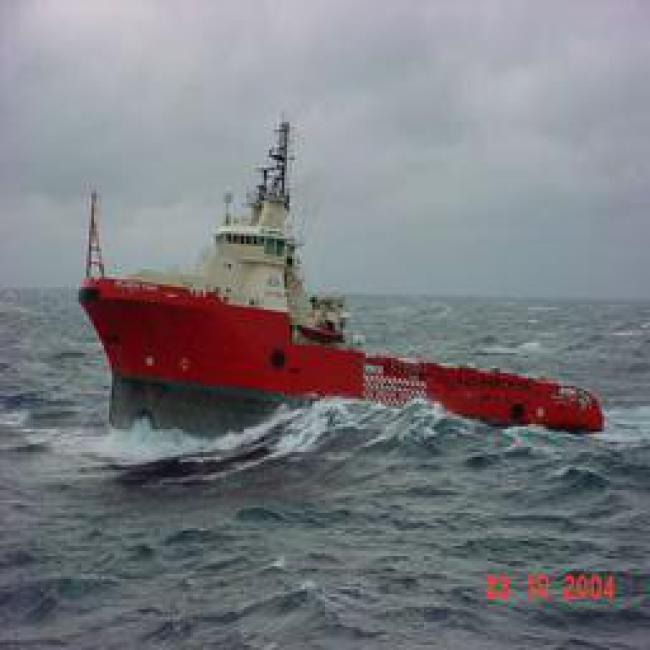Ship: (60, 229, 616, 466)
